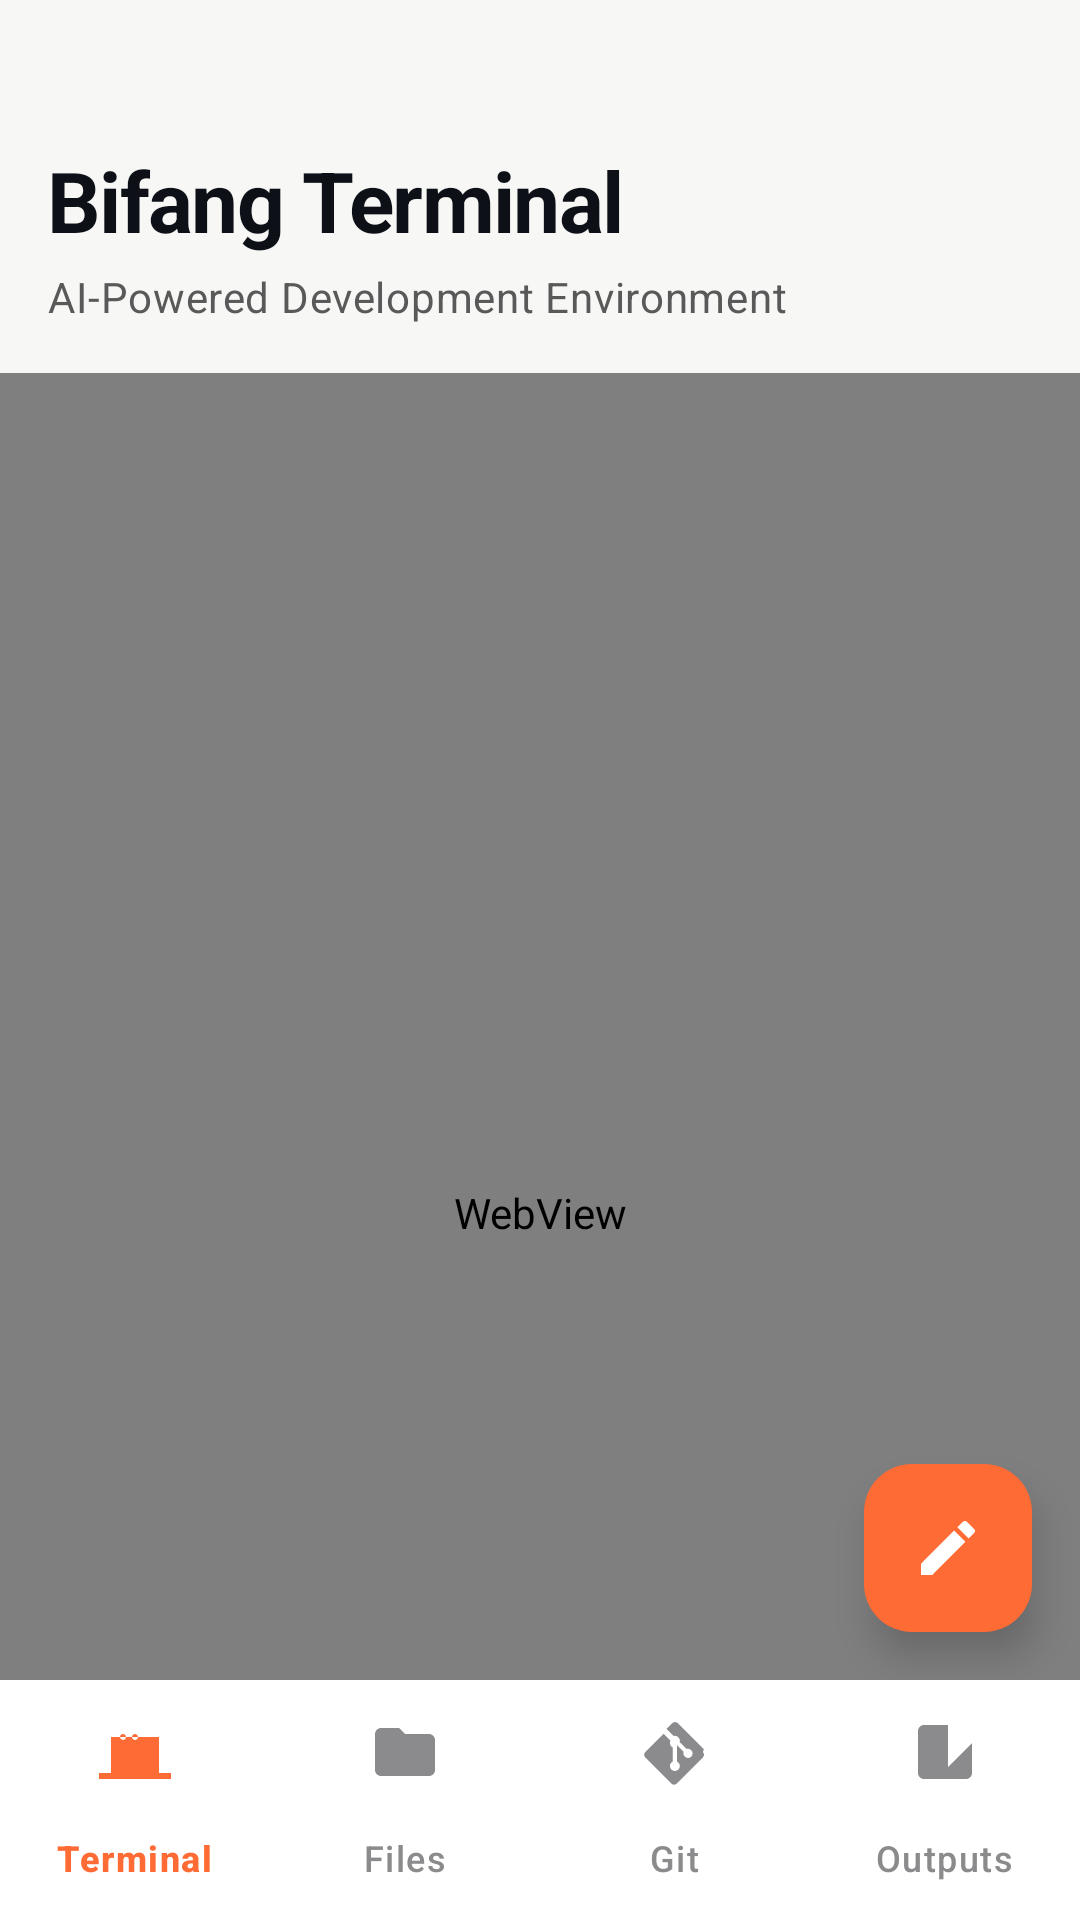

Screen size 1080*1920. Icon name, then its box in pixels as bbox(x1, y1, x2, y2):
Quick input: bbox(864, 1464, 1032, 1632)
